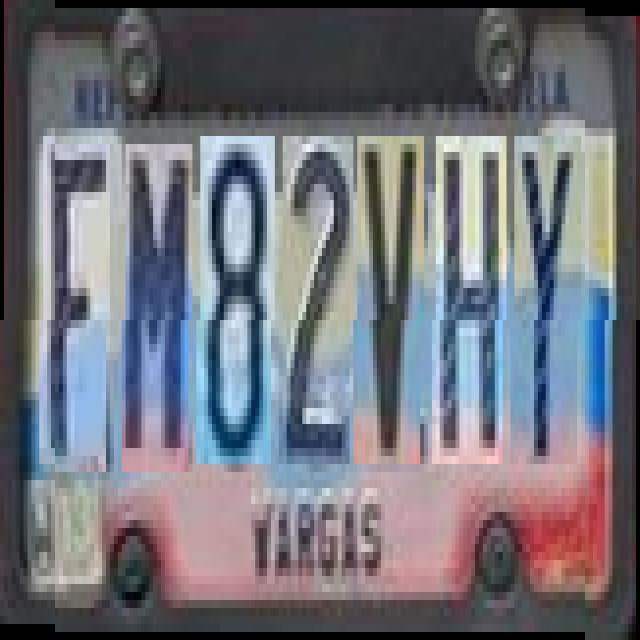2: (282, 136, 354, 464)
8: (200, 136, 275, 464)
F: (43, 144, 110, 472)
H: (436, 136, 506, 464)
M: (126, 144, 192, 472)
V: (357, 136, 424, 464)
Y: (514, 136, 581, 464)
